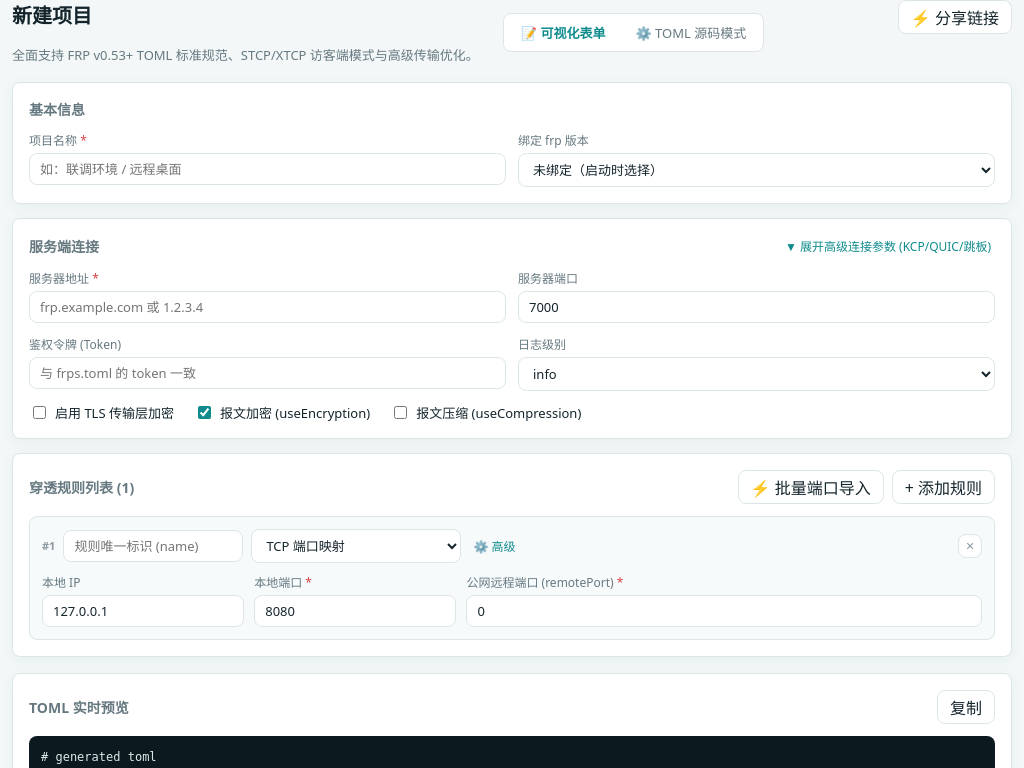
Test case: FrpcProjectEditor 批量端口 › 本地/远程数量不一致：报逐字错误且不入规则
Click the button "⚡ 批量端口导入".
click(811, 487)  # box 738,470 -> 884,504
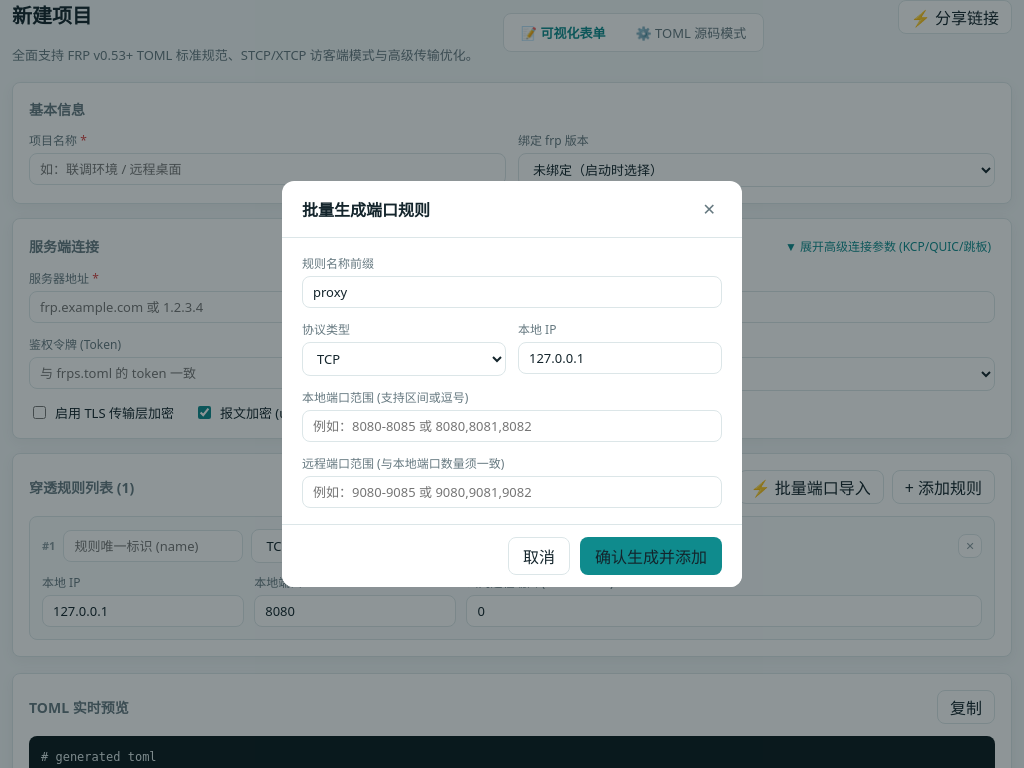
Type "8080-8082" into the field labelled "本地端口范围 (支持区间或逗号)".
click(512, 426); type("8080-8082")  # box 302,410 -> 722,442
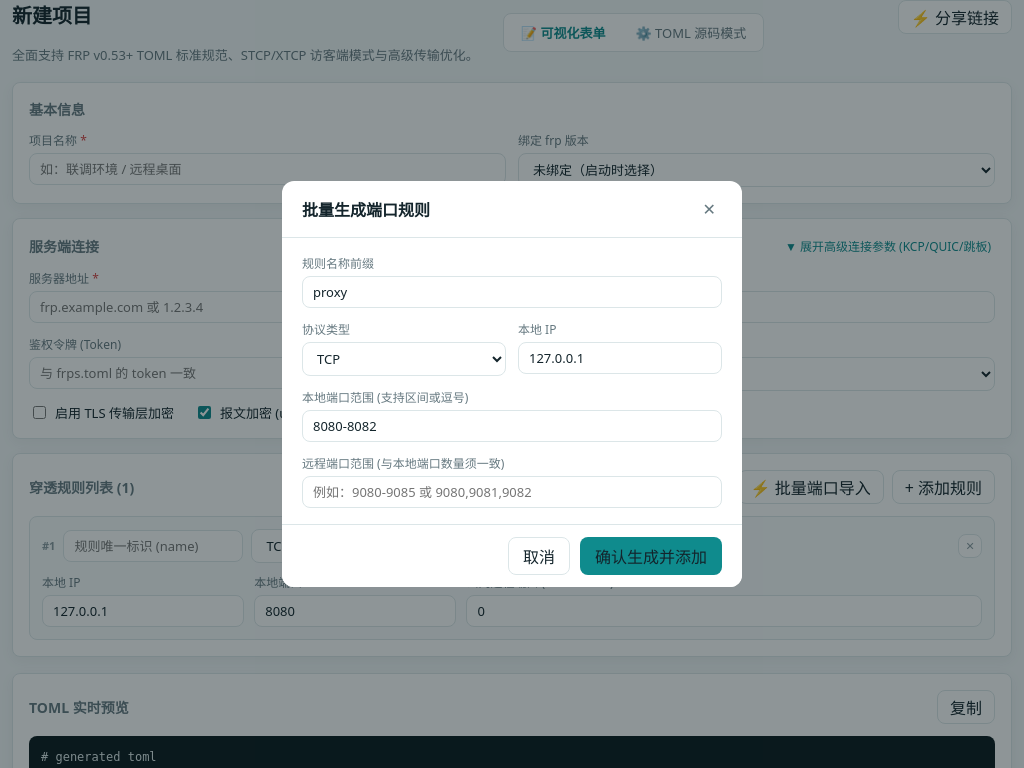
Type "9080" into the field labelled "远程端口范围 (与本地端口数量须一致)".
click(512, 492); type("9080")  # box 302,476 -> 722,508
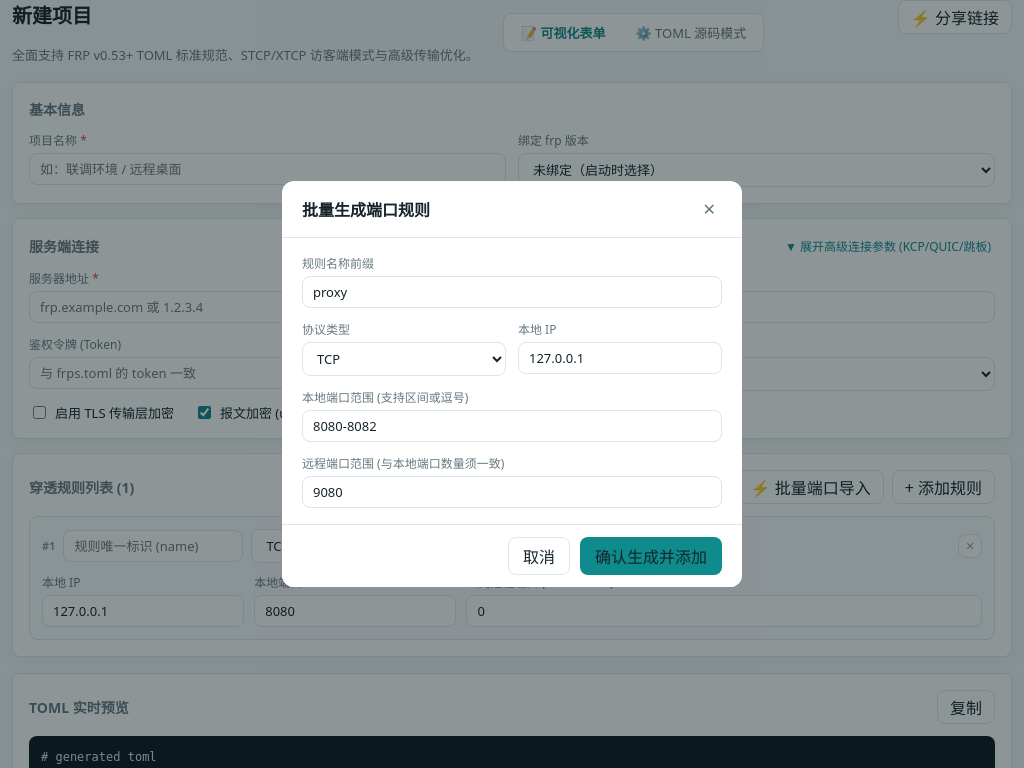
Click the button "确认生成并添加".
click(651, 556)  # box 580,537 -> 722,575
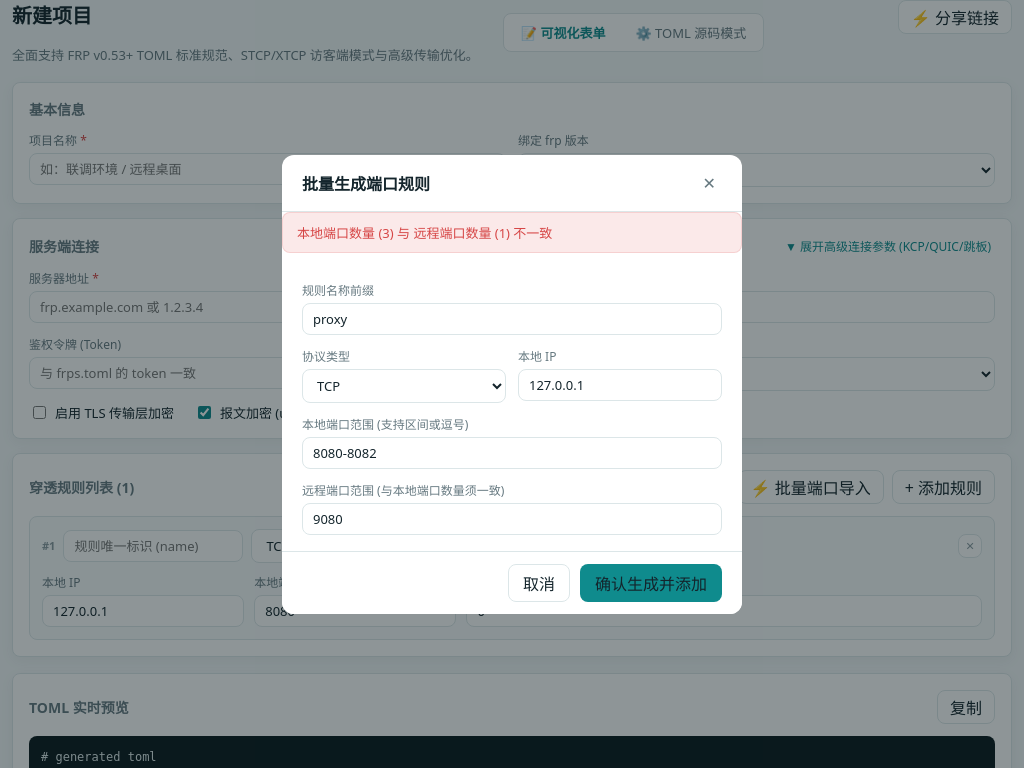
Check: the text with class "error-box" reads "本地端口数量 (3) 与 远程端口数量 (1) 不一致", box 297,224 -> 552,242
